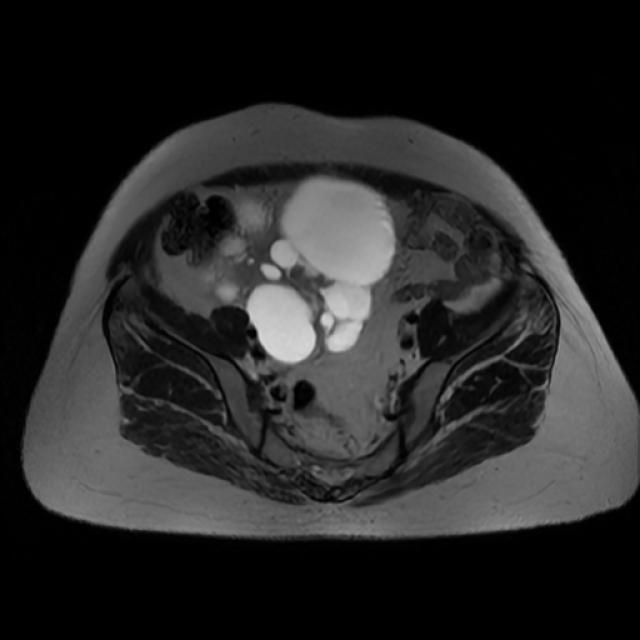sag: (214, 175, 397, 360)
